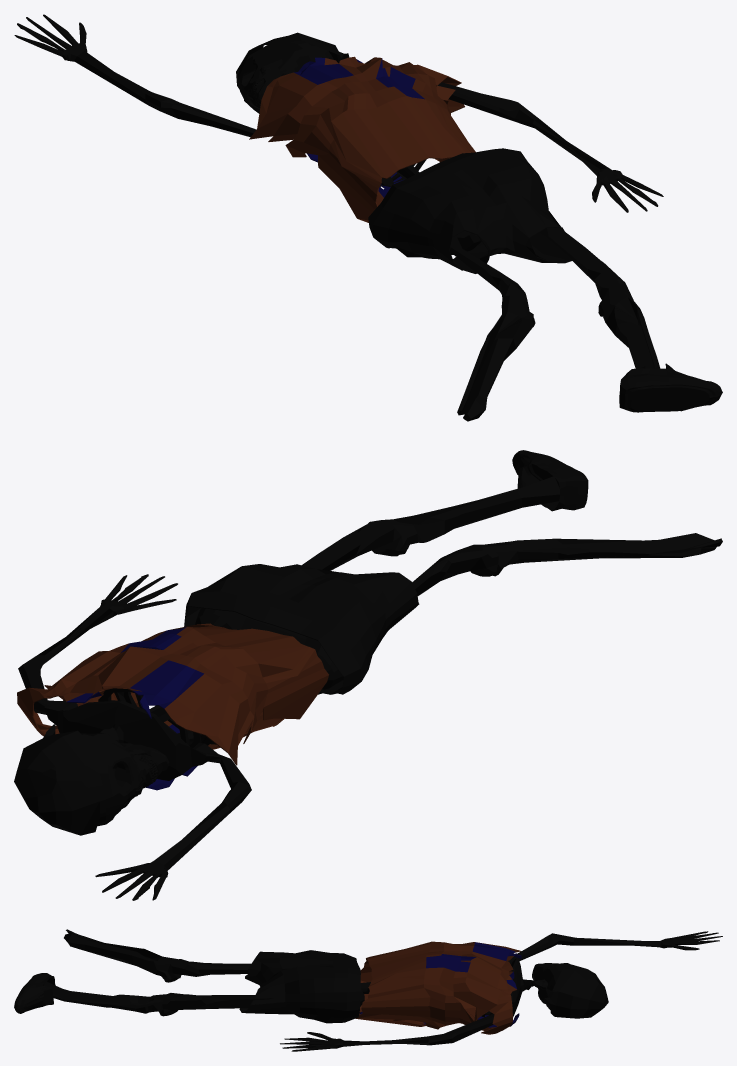
Rendered from EliasDrake.fbx.
3 views of the same model, one above another, from view 1: azimuth 30°, elevation 25°; view 2: azimuth 150°, elevation 25°; view 3: azimuth 270°, elevation 25° (orthographic). The views are drawn at different scales.
Visible parts, largest first — view 1: RetopoCORPO.001; view 2: RetopoCORPO.001; view 3: RetopoCORPO.001.
Boxes of the visible parts, x1,y1,x2,y2 form: RetopoCORPO.001: (14, 14, 722, 421); RetopoCORPO.001: (14, 450, 722, 900); RetopoCORPO.001: (14, 929, 722, 1051).
Bounding box in the file's own units: 85.77 × 23.57 × 211.
